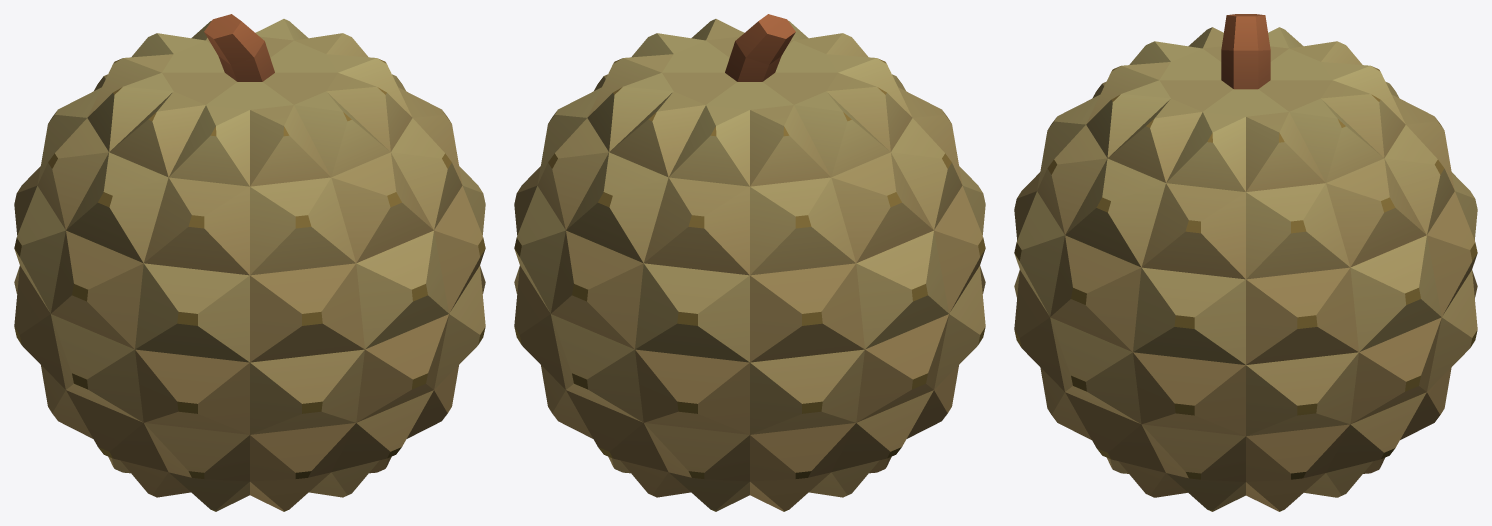
The model's file is Durian.fbx.
3 renders of one model, left to right at view 1: azimuth 30°, elevation 25°; view 2: azimuth 150°, elevation 25°; view 3: azimuth 270°, elevation 25°, orthographic.
Parts seen in each view (by area): view 1: Durian; view 2: Durian; view 3: Durian.
Boxes of the visible parts, x1=… form: Durian: x1=14, y1=14, x2=485, y2=511; Durian: x1=514, y1=14, x2=985, y2=511; Durian: x1=1014, y1=14, x2=1477, y2=511.
Bounding box in the file's own units: 15.42 × 16.59 × 15.42.
